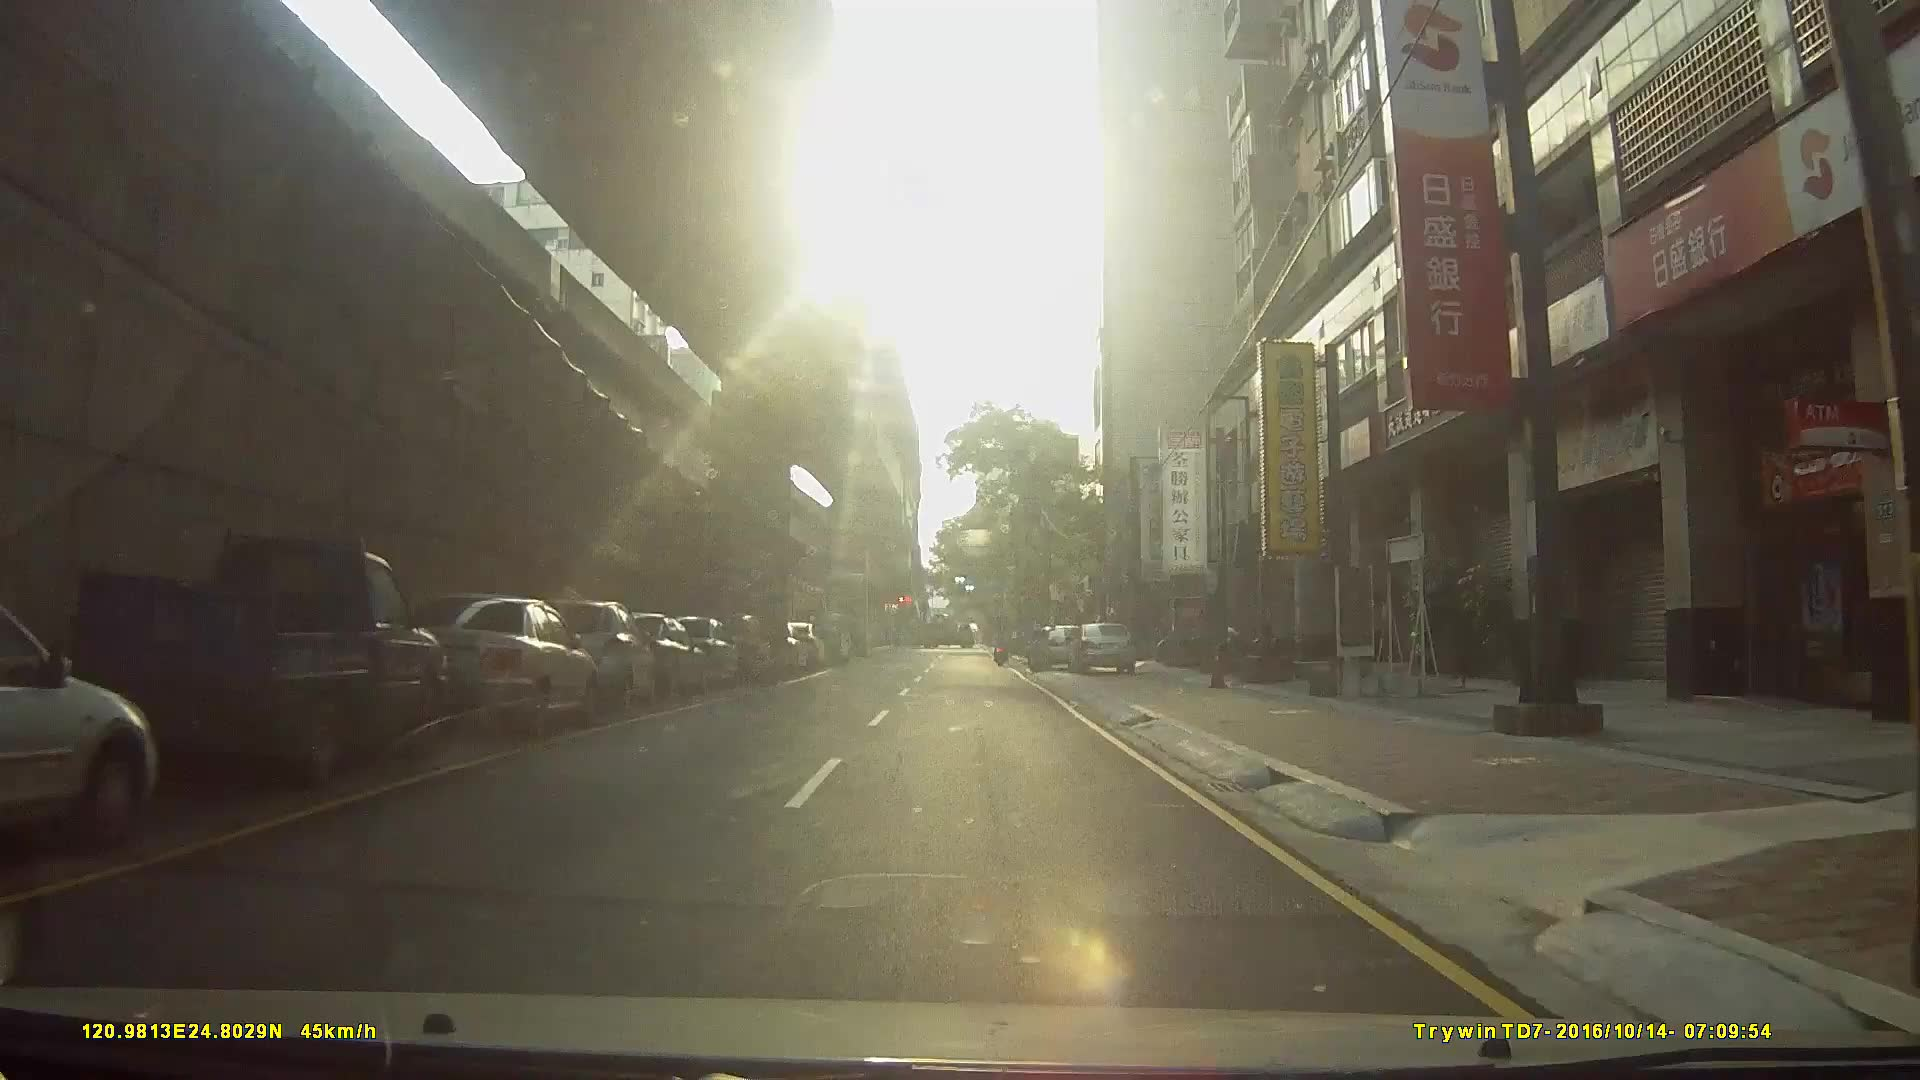vehicle: (36, 530, 467, 796), (1, 582, 167, 861), (378, 589, 596, 740), (520, 597, 654, 715), (593, 611, 703, 705), (659, 613, 740, 688), (696, 612, 773, 684), (1065, 620, 1139, 676), (1025, 624, 1089, 673), (913, 611, 984, 647)
